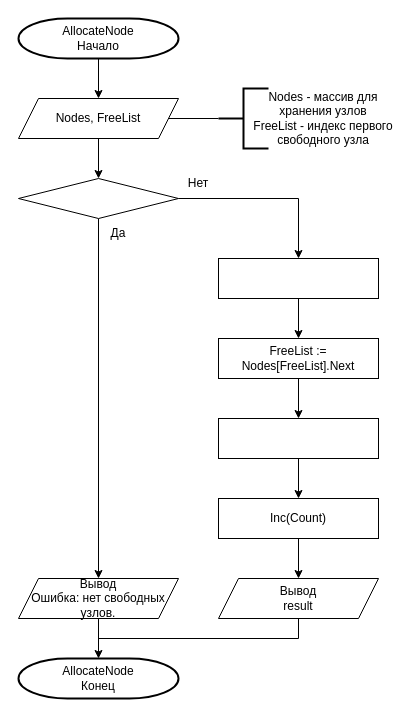
Image size: 415x716. Some labels were removed from this diagram. The centre of each missing label's shape, as x and y in pixels:
FreeList = -1: point (98, 198)
Nodes[Result].Next := -1: point (298, 438)
Result := FreeList: point (298, 278)
